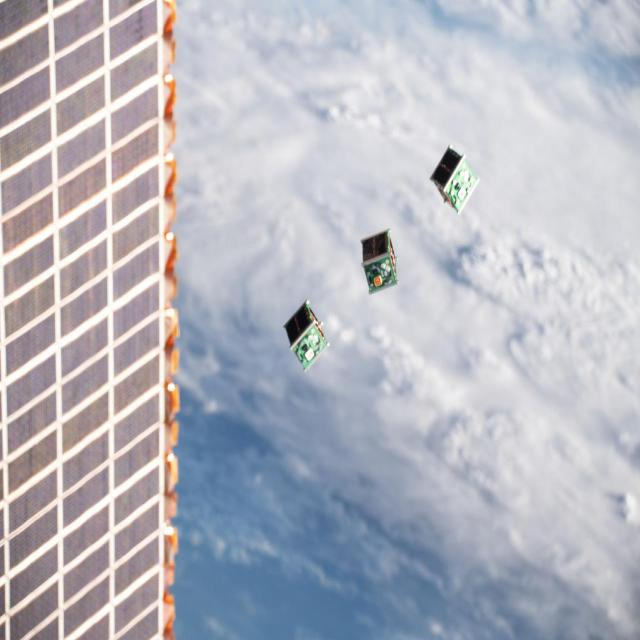medium_debris: (0, 0, 179, 638), (430, 146, 479, 214), (285, 300, 329, 370), (361, 229, 398, 294)
